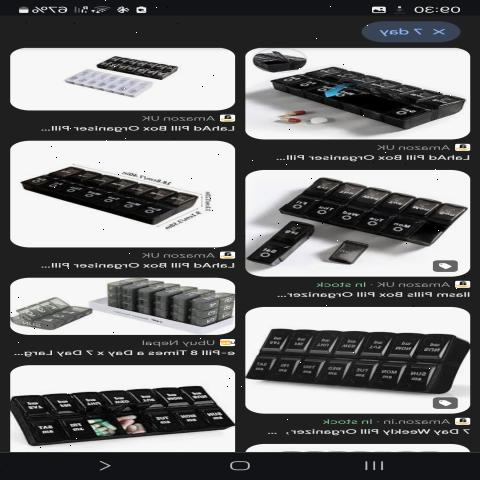PillBox: (248, 316, 466, 398), (258, 175, 464, 255), (269, 52, 462, 134), (10, 375, 231, 445), (19, 164, 220, 224), (74, 47, 195, 76)
